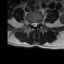CCS_stenosis: (34, 20, 35, 28)
LFS_normal: (37, 20, 39, 26)
LLS_normal: (35, 21, 37, 27)
RFS_normal: (30, 20, 32, 27)
RLS_normal: (32, 21, 34, 27)
